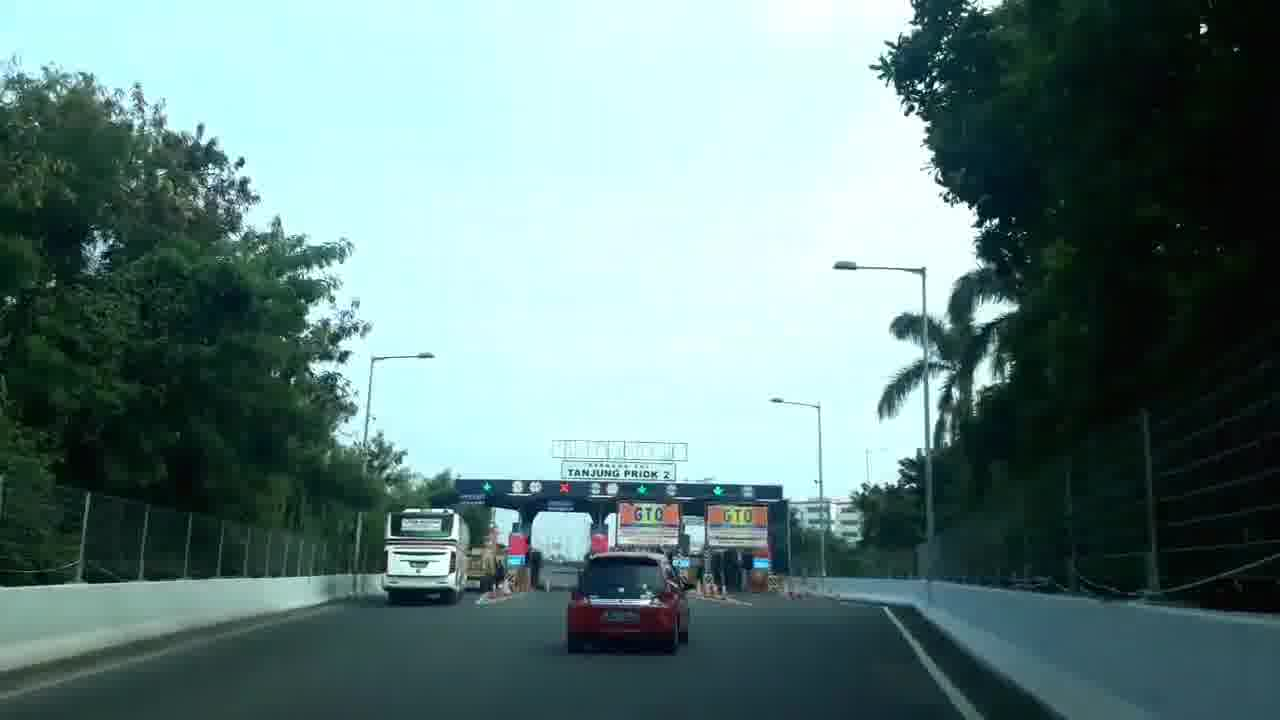plate_positive: (602, 610, 639, 622)
